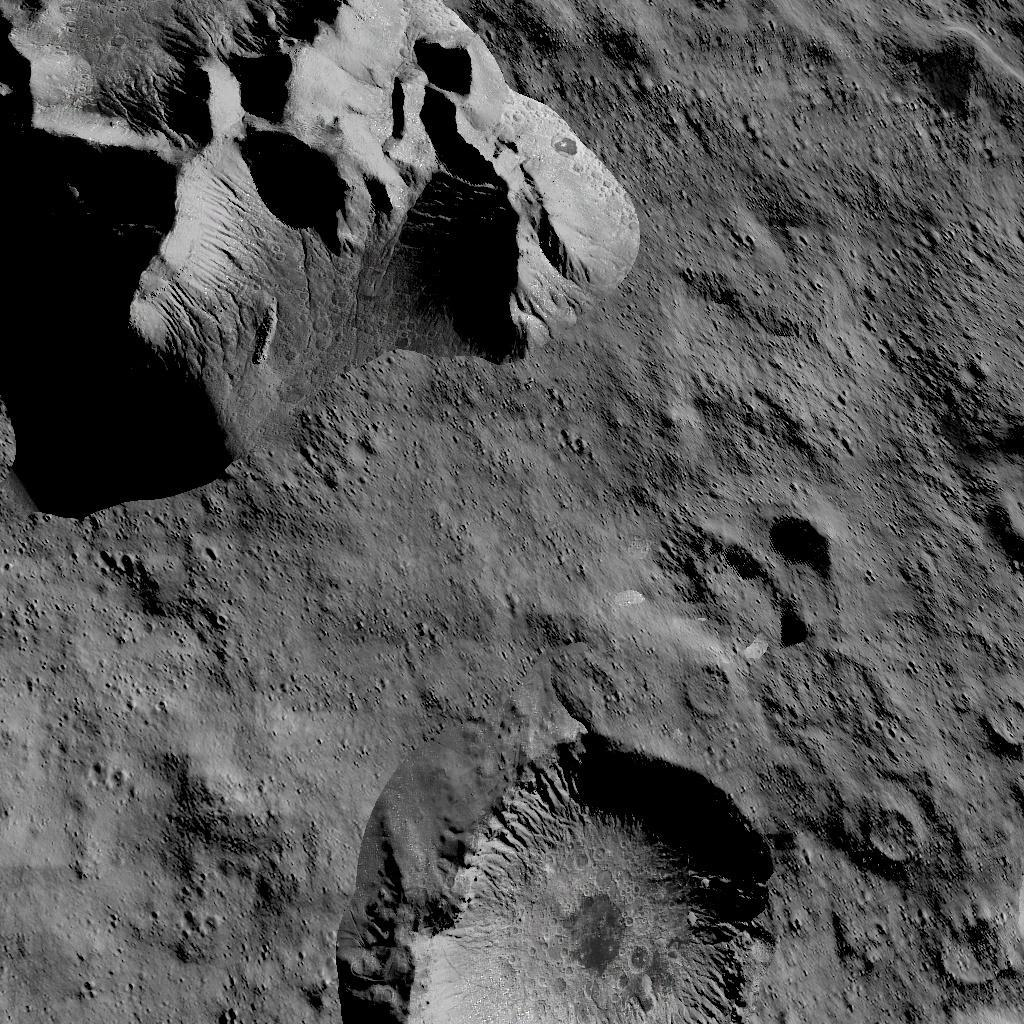Boulders: (0, 0, 644, 507)
Crater: (334, 724, 826, 1022), (740, 506, 843, 656), (931, 908, 1007, 996), (859, 796, 924, 868), (977, 686, 1024, 760), (673, 662, 735, 713)
Plan surface: (680, 4, 1024, 480), (0, 522, 314, 1024), (402, 516, 654, 713)
